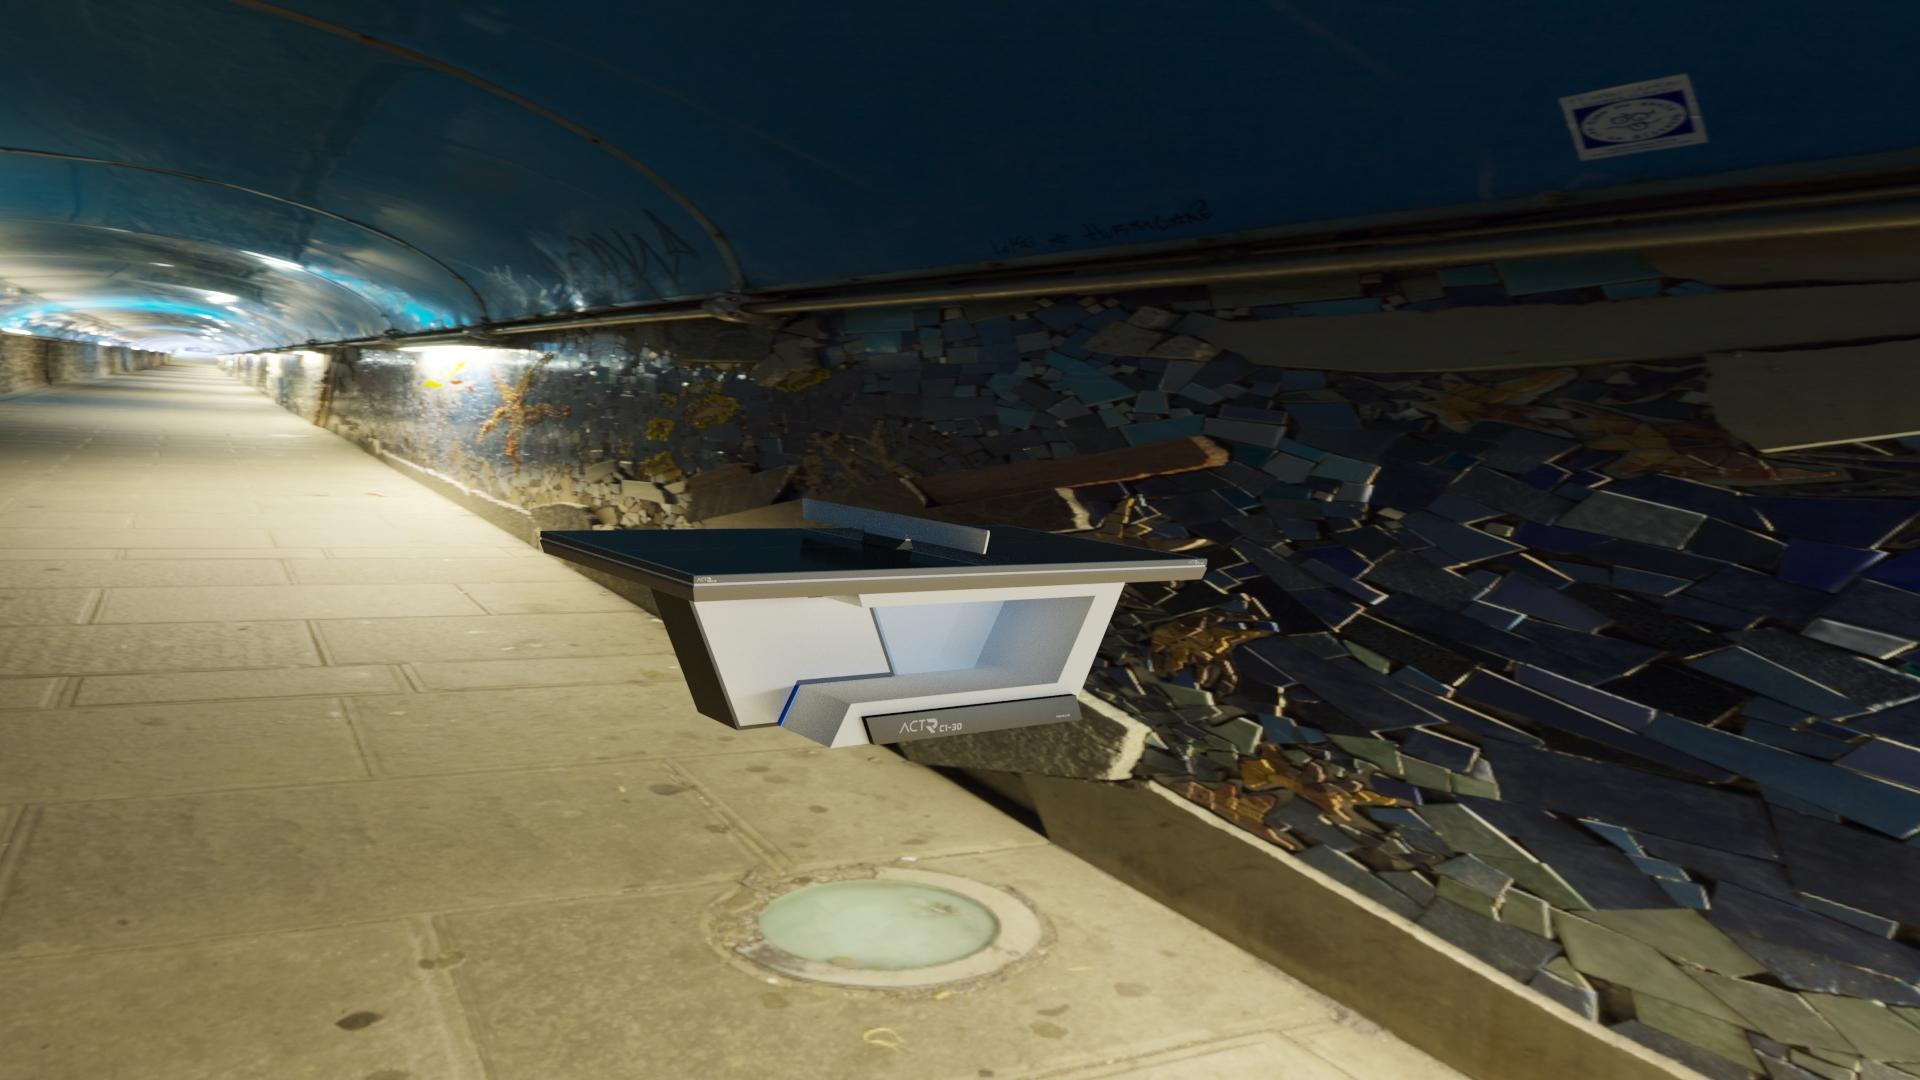table: (546, 526, 1201, 575)
